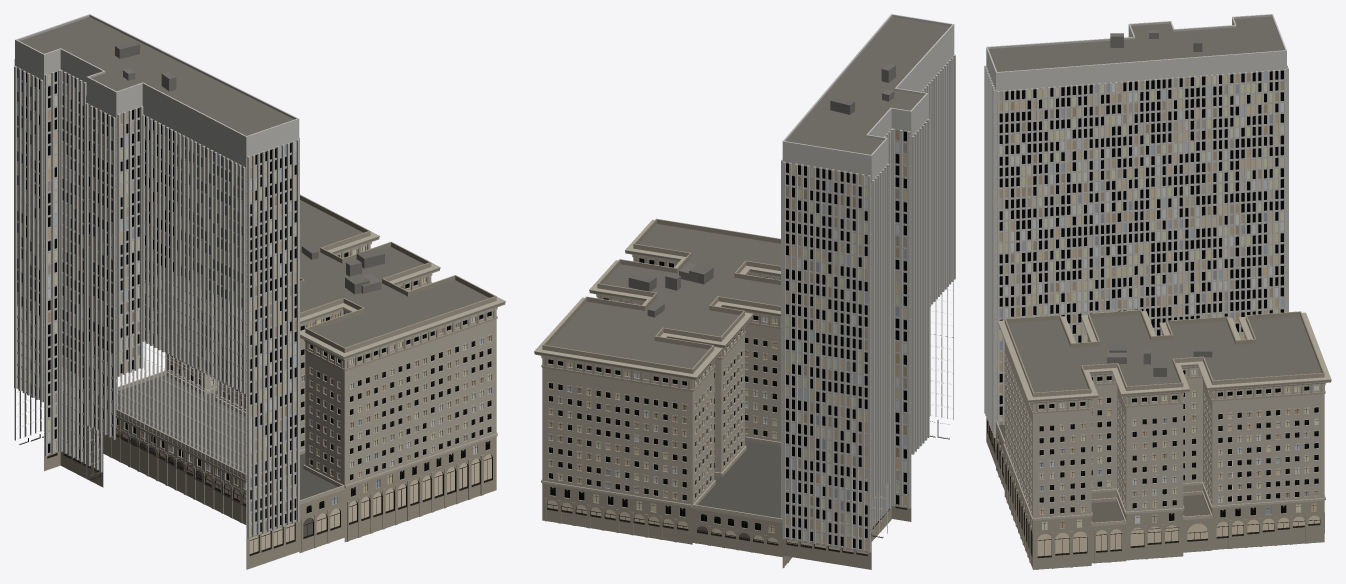
The model's file is stFrancis_lod0.glb.
3 renders of one model, left to right at view 1: azimuth 30°, elevation 25°; view 2: azimuth 150°, elevation 25°; view 3: azimuth 270°, elevation 25°, orthographic. The views are drawn at different scales.
Visible parts, largest first — view 1: L0_concrete, L0_stone, L0_win, L0_roof, L0_metal, L0_shop; view 2: L0_concrete, L0_stone, L0_roof, L0_win, L0_metal, L0_shop; view 3: L0_concrete, L0_stone, L0_win, L0_roof, L0_shop, L0_metal.
Part boxes in pixels (<box>): L0_concrete: <box>14,14,299,538</box>; L0_stone: <box>44,194,505,569</box>; L0_win: <box>17,68,491,535</box>; L0_roof: <box>20,17,488,499</box>; L0_metal: <box>19,247,492,555</box>; L0_shop: <box>47,430,491,553</box>; L0_concrete: <box>781,14,955,552</box>; L0_stone: <box>534,218,911,569</box>; L0_roof: <box>548,17,950,518</box>; L0_win: <box>548,67,944,549</box>; L0_metal: <box>547,259,949,556</box>; L0_shop: <box>547,500,867,554</box>; L0_concrete: <box>984,14,1288,437</box>; L0_stone: <box>986,309,1331,569</box>; L0_win: <box>998,70,1318,529</box>; L0_roof: <box>988,16,1321,522</box>; L0_shop: <box>988,424,1319,556</box>; L0_metal: <box>987,370,1320,558</box>.
Size of the model in its own units: 107 by 128 by 98.55.
